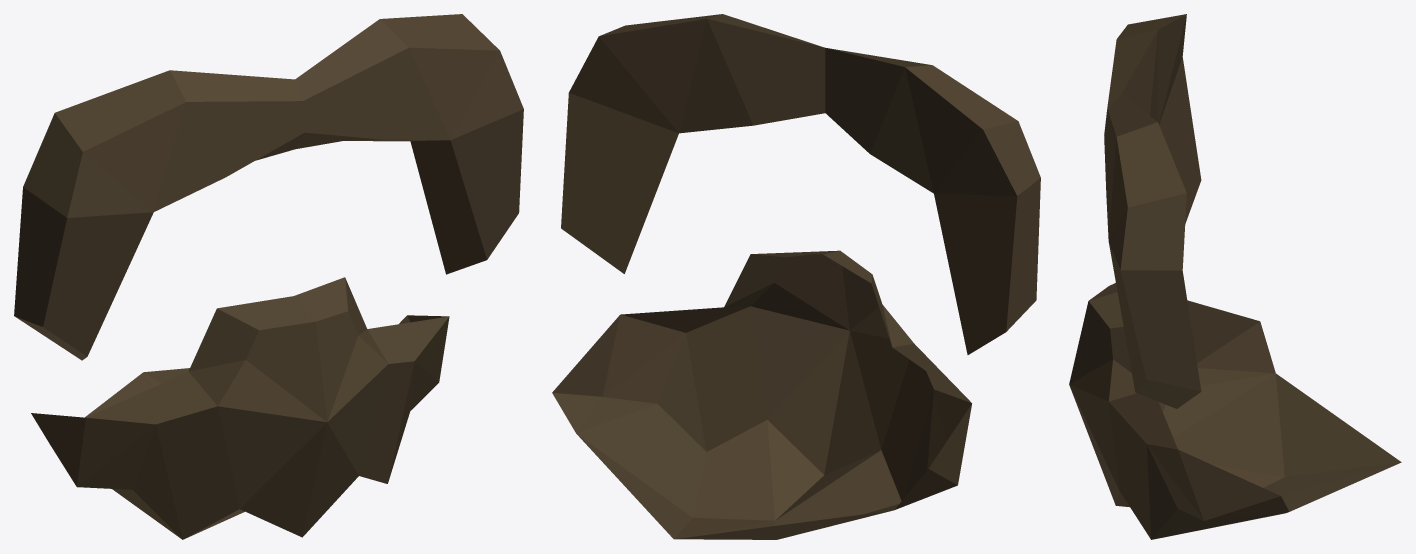
File: SM_Chr_Attach_Beard_Grey_02.fbx
The picture shows the model from 3 angles, left to right: view 1: azimuth 30°, elevation 25°; view 2: azimuth 150°, elevation 25°; view 3: azimuth 270°, elevation 25°; orthographic projection. The views are drawn at different scales.
Parts seen in each view (by area): view 1: SM_Chr_Attach_Beard_Grey_02; view 2: SM_Chr_Attach_Beard_Grey_02; view 3: SM_Chr_Attach_Beard_Grey_02.
Part boxes in pixels (left/top/right/bottom): SM_Chr_Attach_Beard_Grey_02: left=14, top=14, right=523, bottom=539; SM_Chr_Attach_Beard_Grey_02: left=552, top=14, right=1040, bottom=539; SM_Chr_Attach_Beard_Grey_02: left=1069, top=14, right=1401, bottom=539.
Size of the model in its own units: 13.77 by 13.46 by 9.29.
